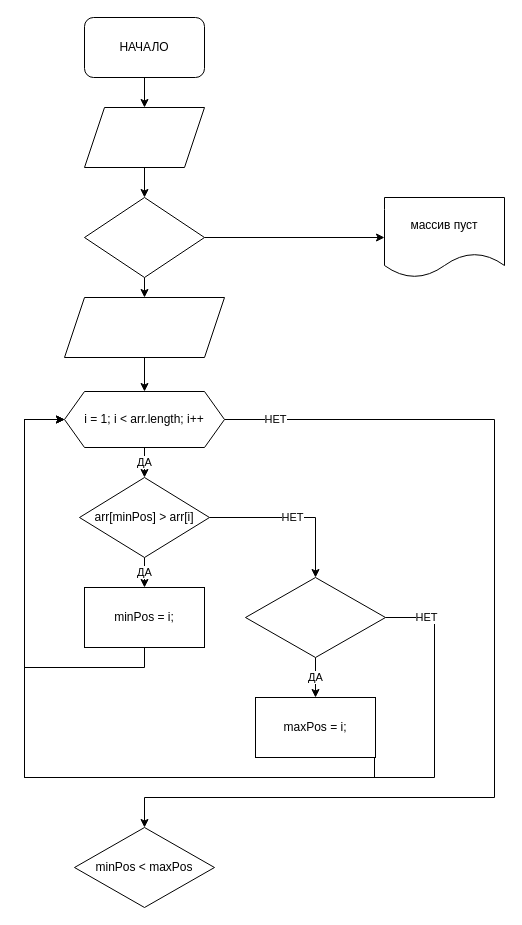
This 522x925 diagram has some shape labels left out. The shapes that lost their labels are listed below. From the top down, each one's centre as x and y in pixels, then its label:
At (144,137): "arr[]".
At (144,237): "arr.length == 0".
At (144,327): "minPos = maxPos = 0 startPos, endPos".
At (315,617): "arr[maxPos] < arr[i]".
